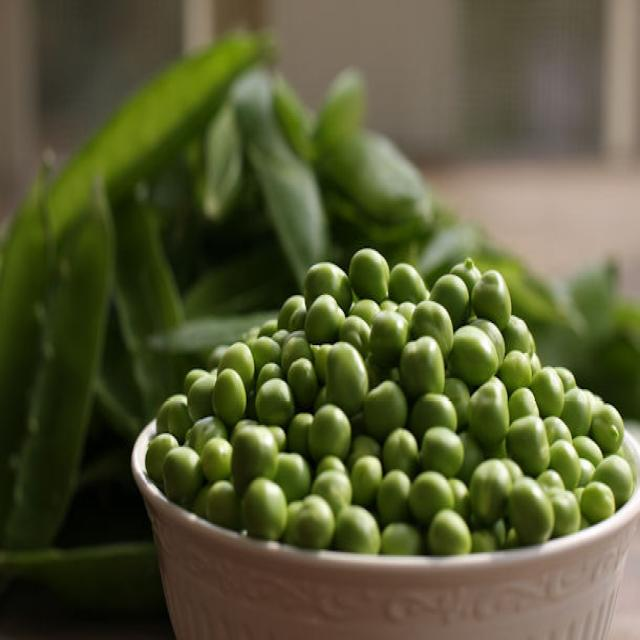pea: (130, 246, 635, 554)
